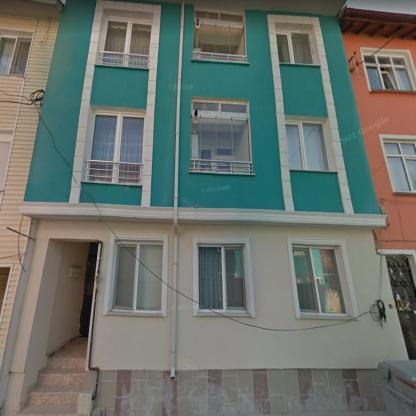door: (386, 256, 415, 360), (80, 258, 96, 338)
window: (86, 108, 145, 184), (291, 242, 348, 316), (109, 237, 162, 314), (192, 102, 250, 172), (196, 242, 249, 314), (194, 8, 246, 60), (100, 16, 151, 66), (286, 121, 332, 171), (364, 54, 415, 90), (382, 140, 414, 192), (277, 29, 314, 64), (1, 35, 32, 75), (0, 132, 12, 189)
